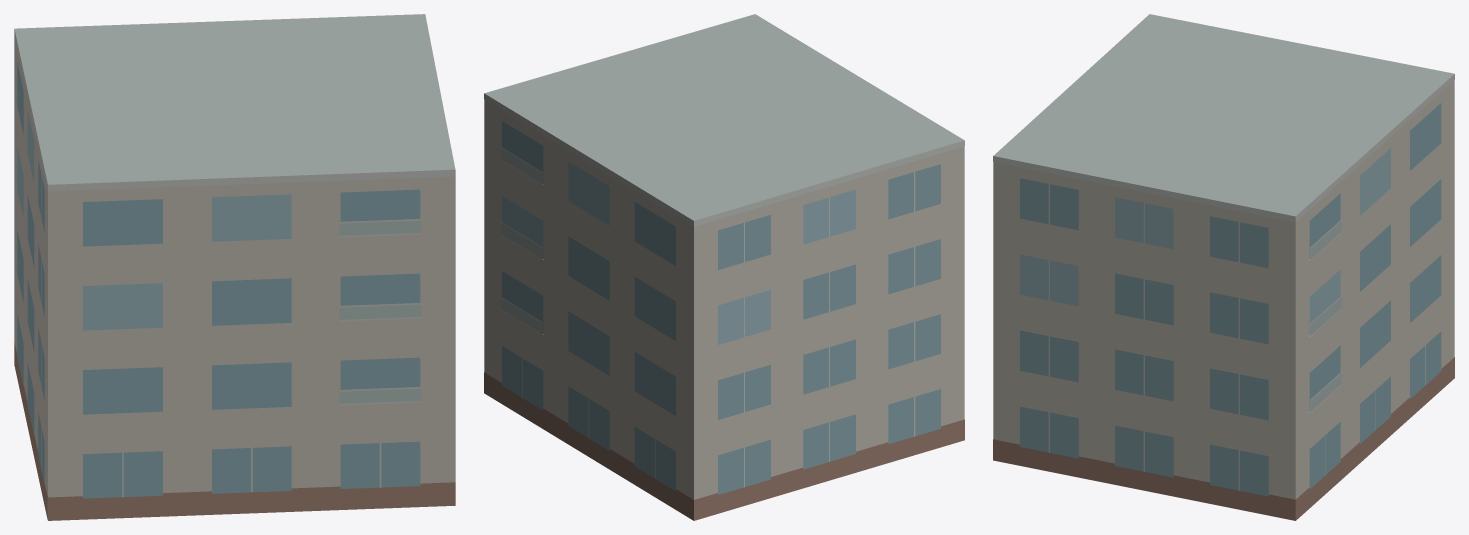
Rendered from survey-upis-32552707.glb.
3 renders of one model, left to right at view 1: azimuth 30°, elevation 25°; view 2: azimuth 150°, elevation 25°; view 3: azimuth 270°, elevation 25°, orthographic. The views are drawn at different scales.
Visible parts, largest first — view 1: survey-upis-32552707.tmp; view 2: survey-upis-32552707.tmp; view 3: survey-upis-32552707.tmp.
Boxes of the visible parts, left/top/right/bottom form: survey-upis-32552707.tmp: left=14, top=14, right=455, bottom=520; survey-upis-32552707.tmp: left=484, top=14, right=964, bottom=520; survey-upis-32552707.tmp: left=993, top=14, right=1454, bottom=520.
Bounding box in the file's own units: 17.41 × 12.2 × 16.77.
